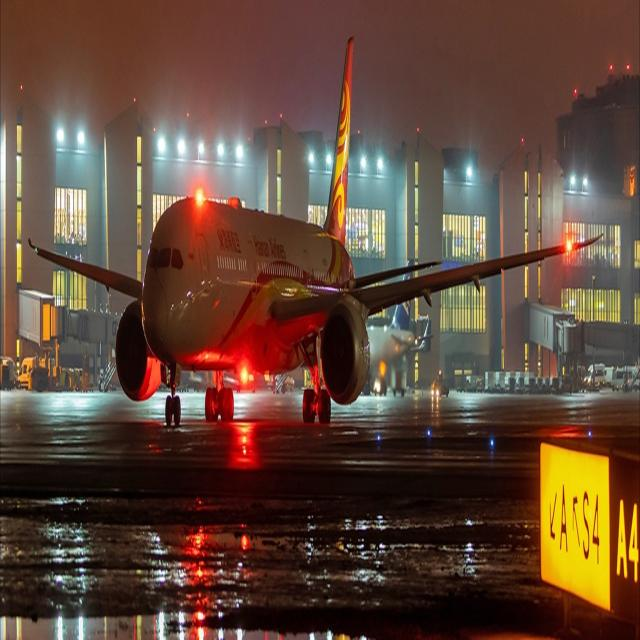plain: (37, 29, 593, 434)
